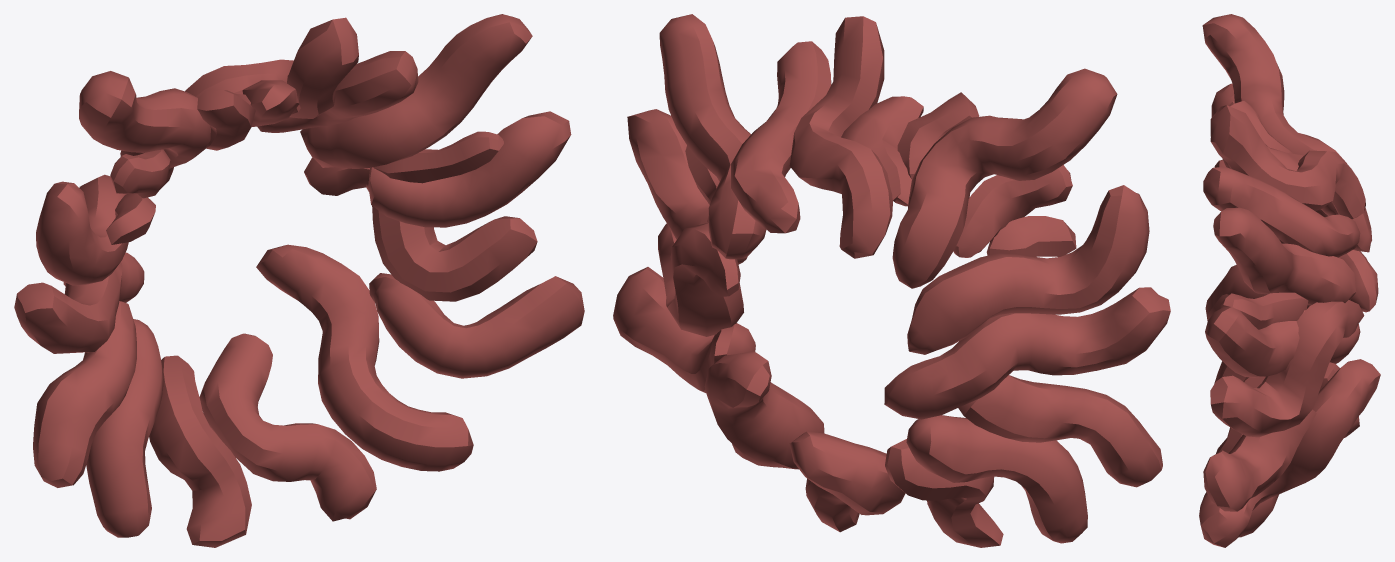
File: eye1.fbx
The picture shows the model from 3 angles, left to right: view 1: azimuth 30°, elevation 25°; view 2: azimuth 150°, elevation 25°; view 3: azimuth 270°, elevation 25°; orthographic projection. The views are drawn at different scales.
Parts seen in each view (by area): view 1: eye1; view 2: eye1; view 3: eye1.
Boxes of the visible parts, x1,y1,x2,y2 form: eye1: [14, 14, 584, 547]; eye1: [613, 14, 1170, 547]; eye1: [1199, 14, 1380, 547].
Bounding box in the file's own units: 266 × 233 × 90.34.
